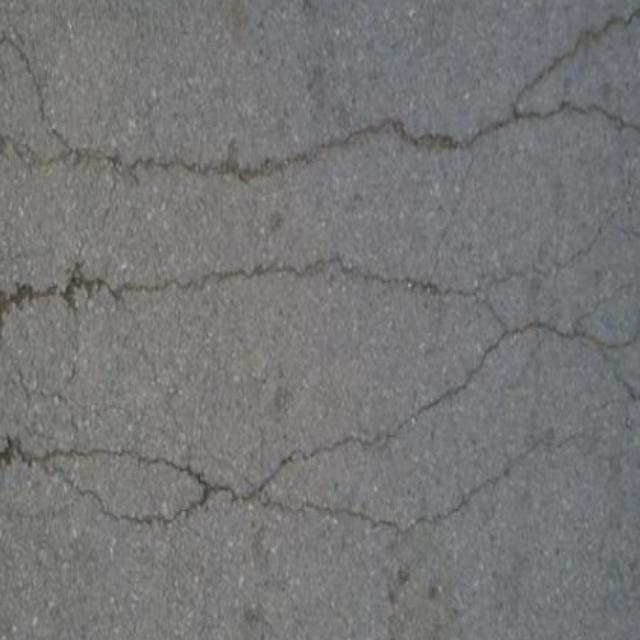PIEL DE COCODRILO: (0, 4, 639, 551)
